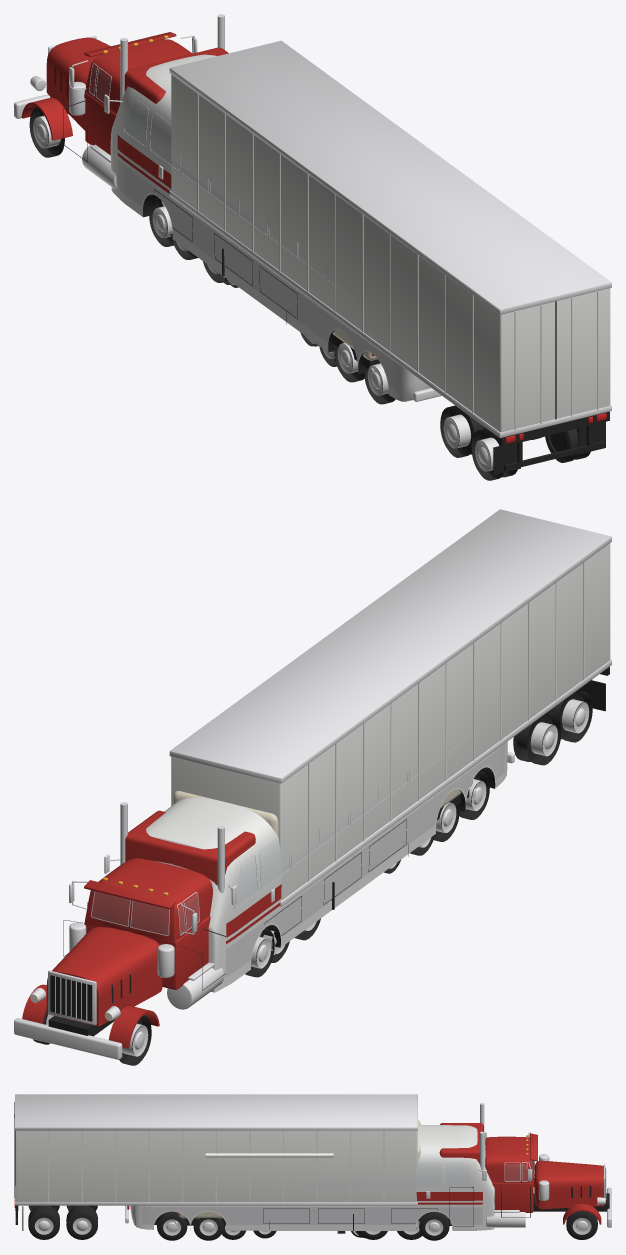
The model's file is vehicles.glb.
3 views of the same model, one above another, from view 1: azimuth 30°, elevation 25°; view 2: azimuth 150°, elevation 25°; view 3: azimuth 270°, elevation 25° (orthographic). The views are drawn at different scales.
Parts seen in each view (by area): view 1: semi, bus, rv; view 2: semi, bus, rv; view 3: semi, bus, rv.
Part boxes in pixels (box(x1,y1,x2,y2)): semi: box(14, 14, 611, 480); bus: box(104, 54, 441, 404); rv: box(158, 165, 380, 374); semi: box(14, 509, 611, 1065); bus: box(104, 734, 514, 992); rv: box(173, 780, 476, 960); semi: box(14, 1094, 611, 1239); bus: box(125, 1125, 494, 1240); rv: box(174, 1120, 451, 1239).
Bounding box in the file's own units: 3.2 × 4.17 × 19.62.
